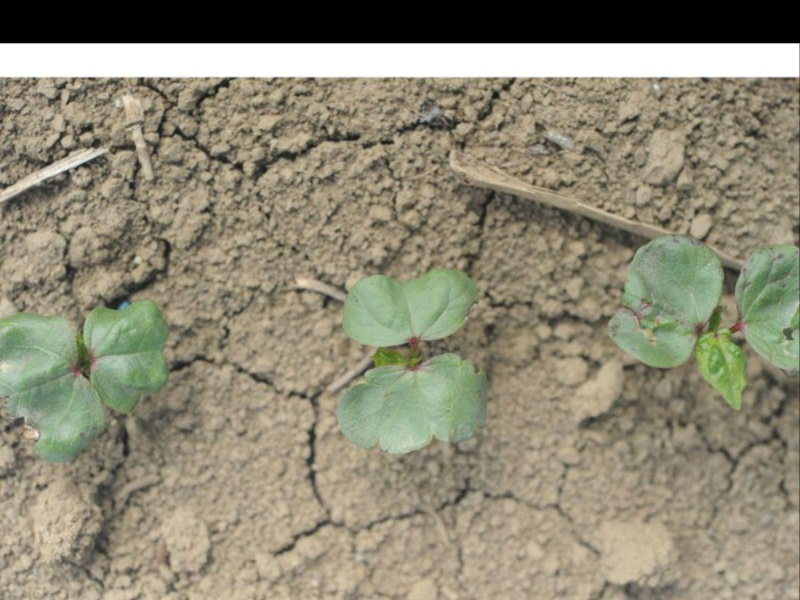cotton: (607, 234, 799, 411), (335, 269, 487, 453), (2, 300, 167, 462)
